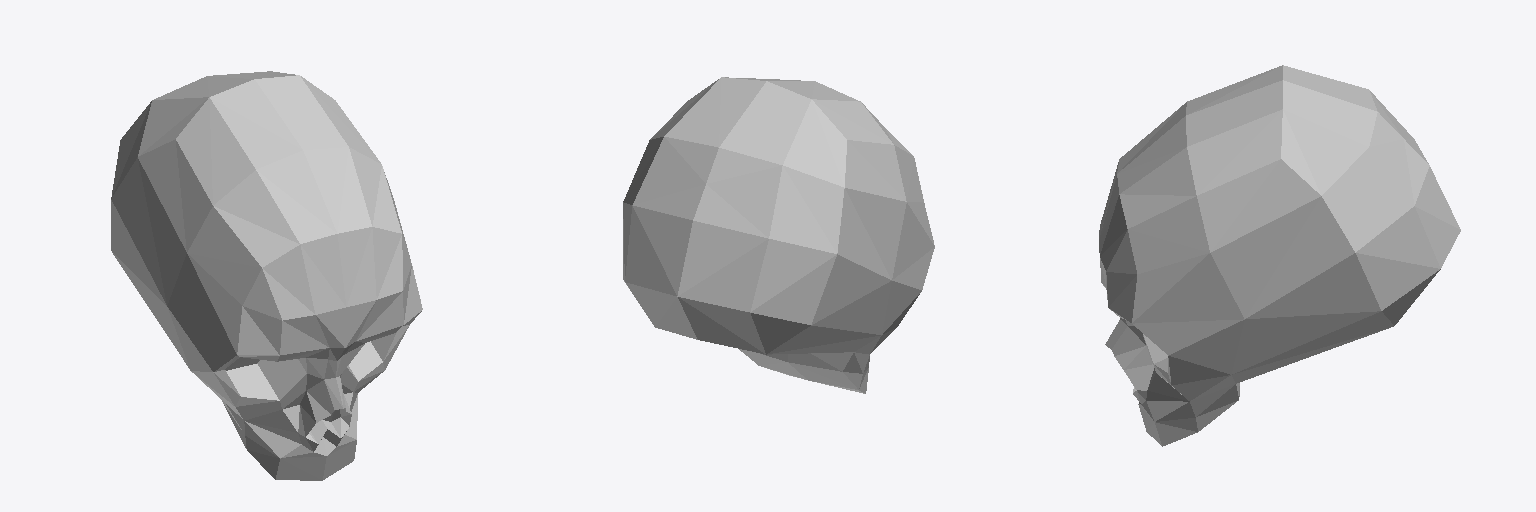
Rendered from skull.obj.
The picture shows the model from 3 angles: view 1: azimuth 30°, elevation 25°; view 2: azimuth 150°, elevation 25°; view 3: azimuth 270°, elevation 25°; orthographic projection.
Parts seen in each view (by area): view 1: Plane009; view 2: Plane009; view 3: Plane009.
Boxes of the visible parts, x1,y1,x2,y2 form: Plane009: [111, 71, 422, 480]; Plane009: [623, 77, 934, 393]; Plane009: [1099, 65, 1460, 446].
Size of the model in its own units: 19.12 by 30 by 28.01.